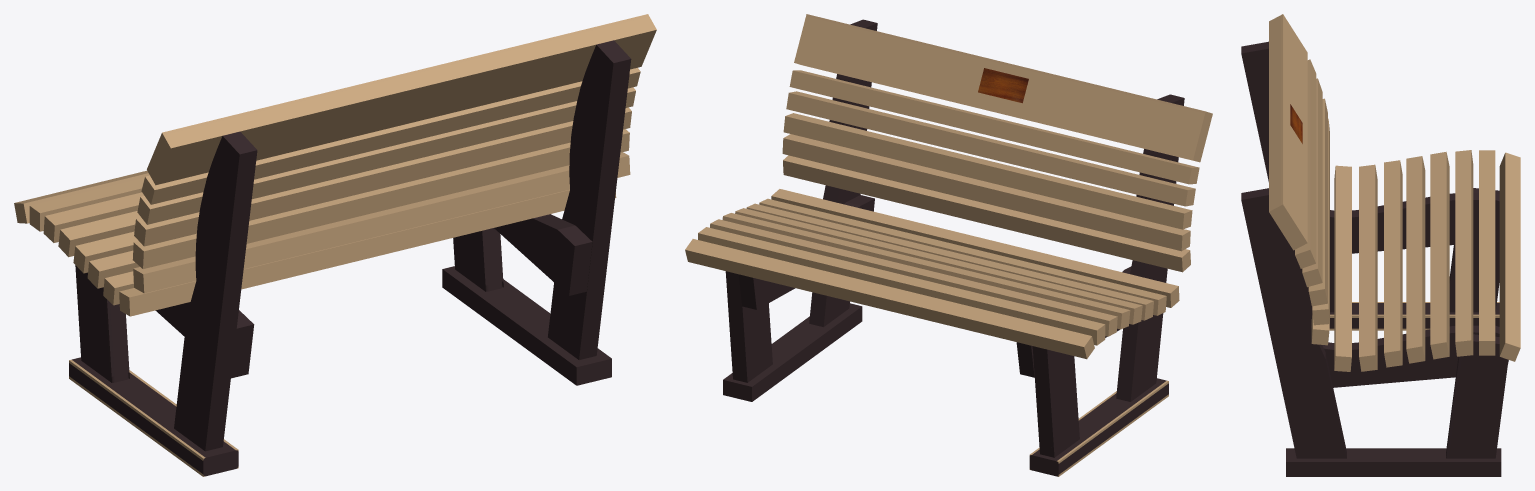
3 views of the same model, side by side, from view 1: azimuth 30°, elevation 25°; view 2: azimuth 150°, elevation 25°; view 3: azimuth 270°, elevation 25° (orthographic). The views are drawn at different scales.
Parts seen in each view (by area): view 1: mesh3_mesh3-geometry, mesh1_mesh1-geometry, mesh6_mesh6-geometry, mesh29_mesh29-geometry, mesh54_mesh54-geometry, mesh58_mesh58-geometry, mesh31_mesh31-geometry, mesh52_mesh52-geometry, mesh13_mesh13-geometry, mesh38_mesh38-geometry, mesh27_mesh27-geometry, mesh56_mesh56-geometry (+1 smaller); view 2: mesh3_mesh3-geometry, mesh1_mesh1-geometry, mesh6_mesh6-geometry, mesh29_mesh29-geometry, mesh13_mesh13-geometry, mesh58_mesh58-geometry, mesh31_mesh31-geometry, mesh38_mesh38-geometry, mesh54_mesh54-geometry, mesh52_mesh52-geometry, mesh61_mesh61-geometry, mesh56_mesh56-geometry (+3 smaller); view 3: mesh3_mesh3-geometry, mesh1_mesh1-geometry, mesh54_mesh54-geometry, mesh6_mesh6-geometry, mesh38_mesh38-geometry, mesh58_mesh58-geometry, mesh52_mesh52-geometry, mesh29_mesh29-geometry, mesh27_mesh27-geometry, mesh56_mesh56-geometry, mesh13_mesh13-geometry, mesh31_mesh31-geometry (+1 smaller).
Boxes of the visible parts, x1,y1,x2,y2 form: mesh3_mesh3-geometry: (14,67,639,315); mesh1_mesh1-geometry: (14,14,656,476); mesh6_mesh6-geometry: (147,16,655,183); mesh29_mesh29-geometry: (174,131,257,451); mesh54_mesh54-geometry: (548,40,631,359); mesh58_mesh58-geometry: (442,266,611,385); mesh31_mesh31-geometry: (69,357,238,476); mesh52_mesh52-geometry: (494,214,592,295); mesh13_mesh13-geometry: (77,267,129,382); mesh38_mesh38-geometry: (454,228,503,291); mesh27_mesh27-geometry: (155,302,254,378); mesh56_mesh56-geometry: (442,268,611,385); mesh3_mesh3-geometry: (685,70,1199,358); mesh1_mesh1-geometry: (685,14,1212,476); mesh6_mesh6-geometry: (794,16,1212,161); mesh29_mesh29-geometry: (1116,94,1184,401); mesh13_mesh13-geometry: (1034,346,1079,456); mesh58_mesh58-geometry: (723,303,862,401); mesh31_mesh31-geometry: (1029,378,1168,476); mesh38_mesh38-geometry: (727,271,772,382); mesh54_mesh54-geometry: (809,19,877,327); mesh52_mesh52-geometry: (738,195,874,309); mesh61_mesh61-geometry: (978,68,1028,103); mesh56_mesh56-geometry: (723,306,862,401); mesh3_mesh3-geometry: (1295,60,1519,371); mesh1_mesh1-geometry: (1269,14,1520,371); mesh54_mesh54-geometry: (1241,188,1346,458); mesh6_mesh6-geometry: (1269,15,1306,249); mesh38_mesh38-geometry: (1446,334,1506,458); mesh58_mesh58-geometry: (1286,449,1501,474); mesh52_mesh52-geometry: (1322,325,1508,387); mesh29_mesh29-geometry: (1241,41,1334,312); mesh27_mesh27-geometry: (1330,193,1499,255); mesh56_mesh56-geometry: (1286,448,1501,476); mesh13_mesh13-geometry: (1449,188,1499,312); mesh31_mesh31-geometry: (1329,303,1499,328).
Bounding box in the file's own units: 0.7303 × 0.5113 × 0.453.
